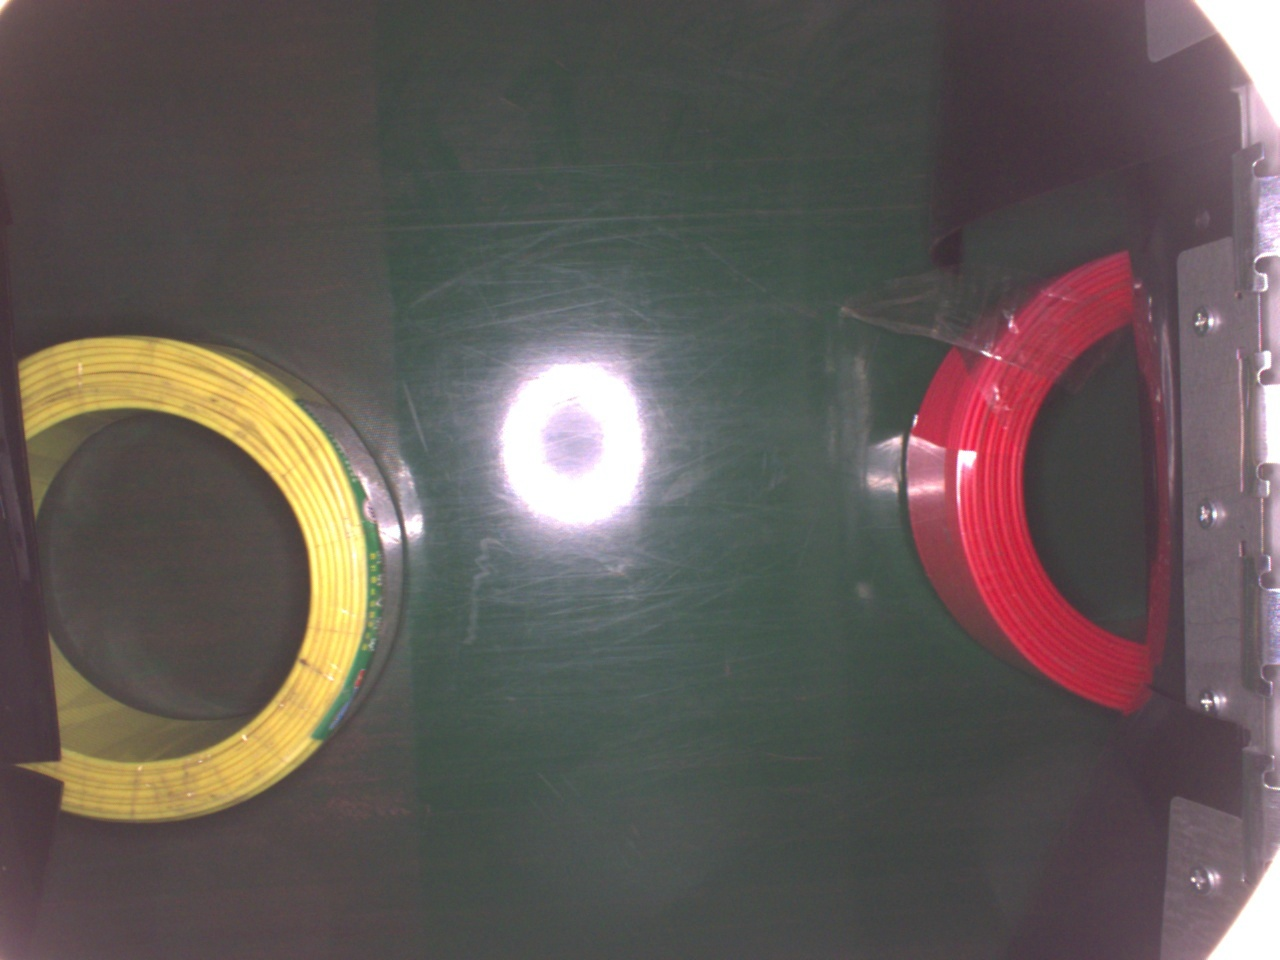red: (905, 241, 1156, 719)
yellow: (15, 330, 403, 821)
